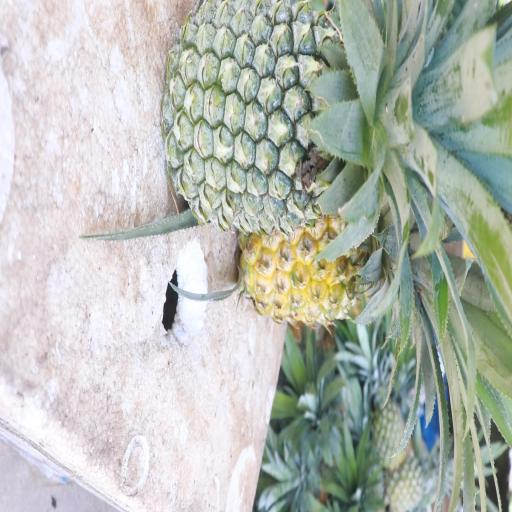Pineapple - v8 v1: (239, 217, 495, 399)
